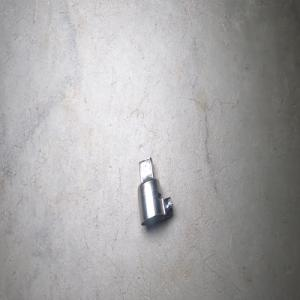MetalPart: (136, 156, 173, 226)
